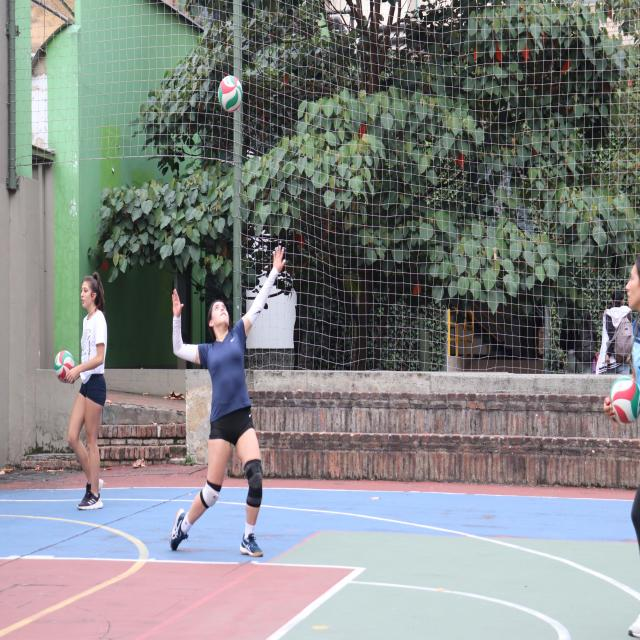volleyball: (610, 376, 640, 424), (217, 74, 243, 112), (54, 348, 76, 380)
